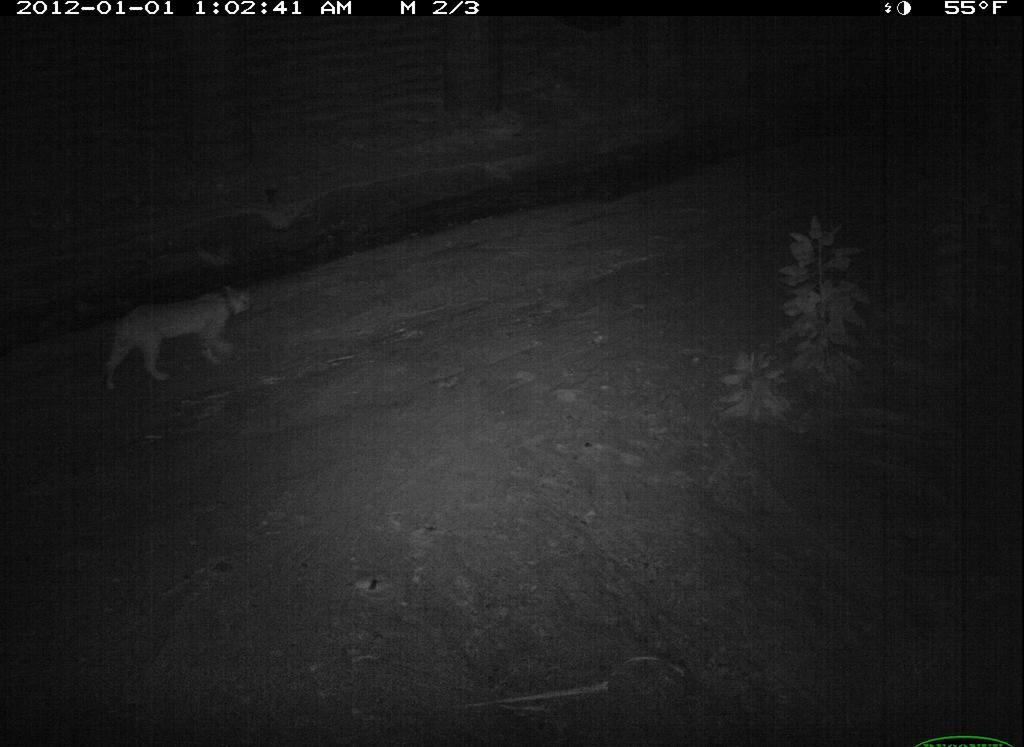bobcat: (84, 271, 265, 414)
